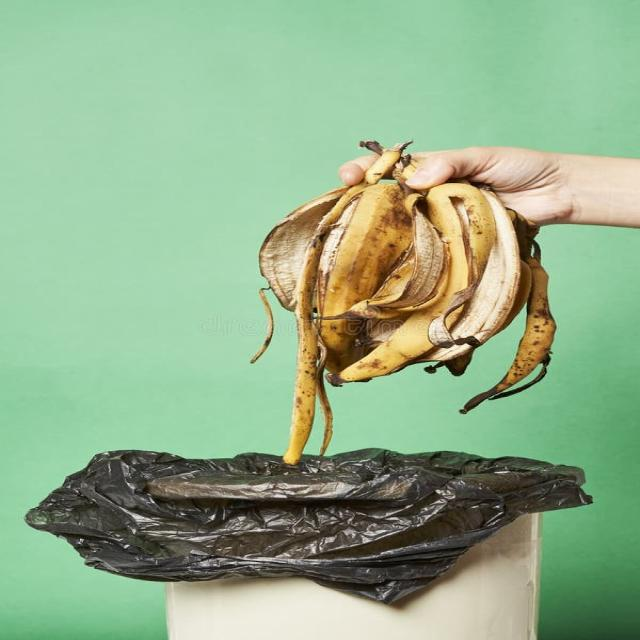banana_peel: (149, 139, 594, 418)
